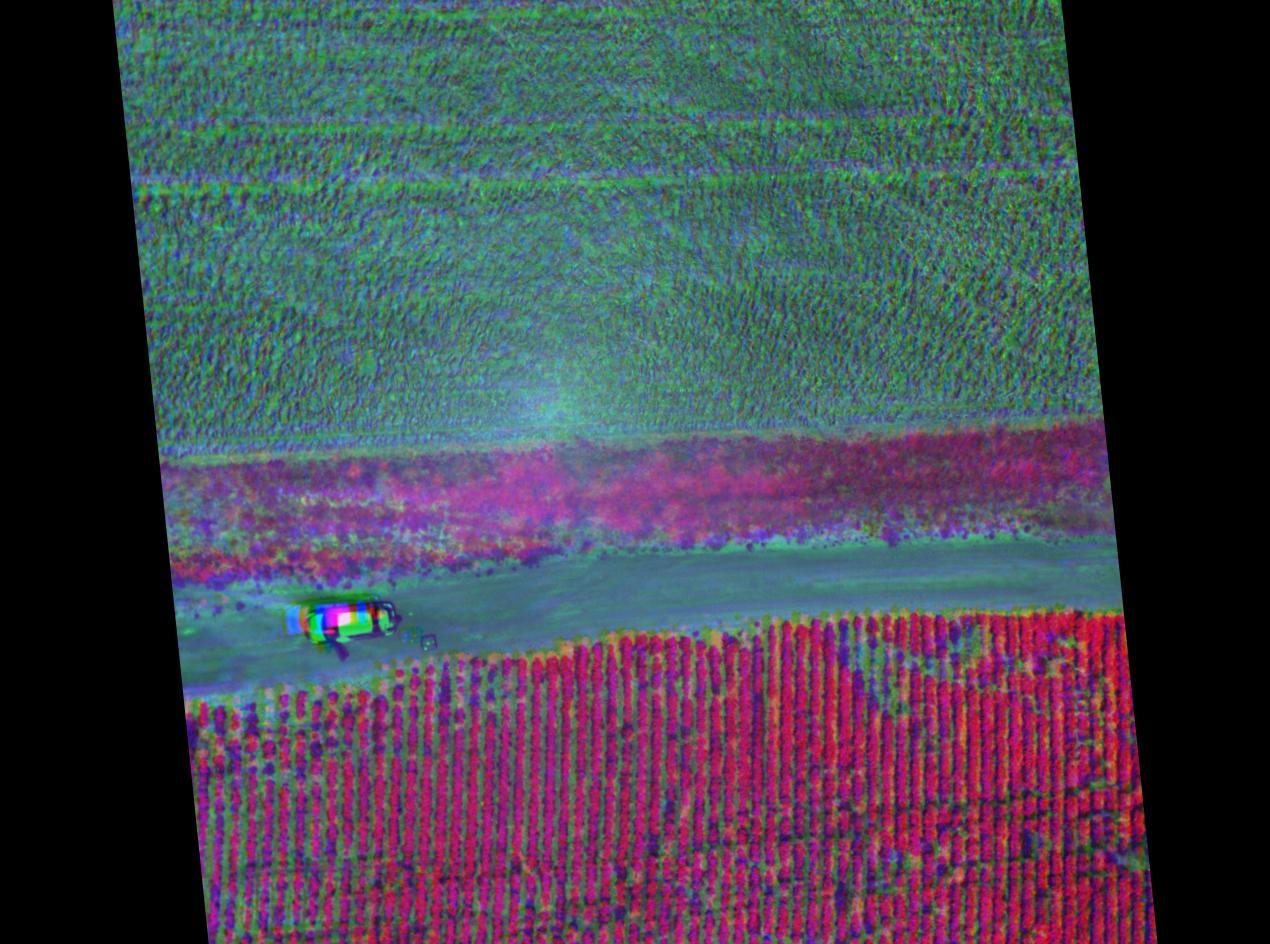dc: (840, 631, 910, 715), (203, 821, 268, 887), (926, 620, 990, 687), (245, 698, 305, 765)
